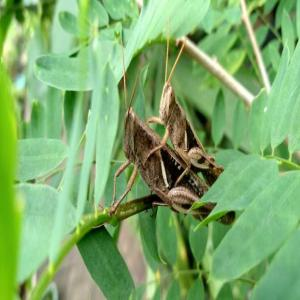locust: (122, 55, 227, 208)
